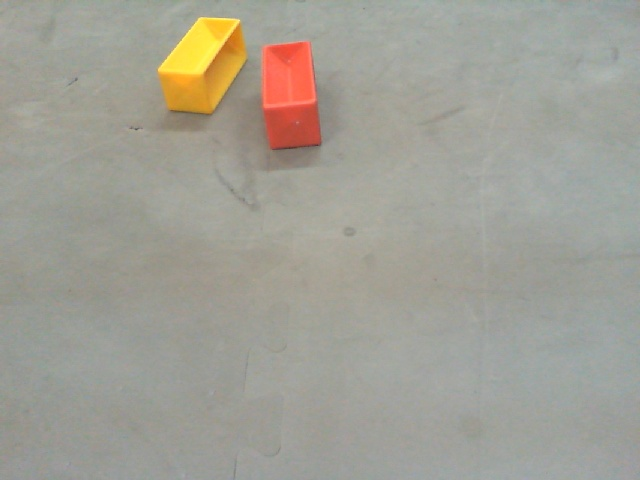RedSample: (261, 37, 323, 151)
YellowSample: (155, 15, 248, 121)
